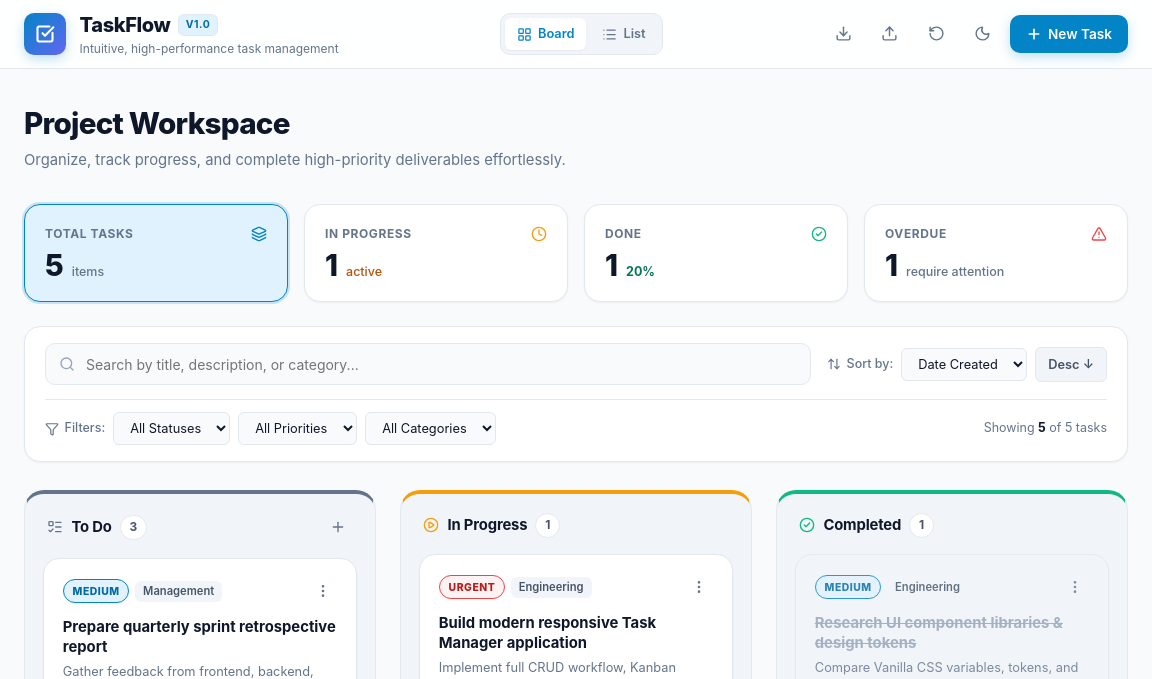
Test case: TaskFlow Application UI & Workflows › switches between Kanban Board and List view modes
Expected: the heading "To Do" is shown, [71, 516, 112, 538]
Click the button "List". click: [624, 34]
box: [590, 18, 658, 50]
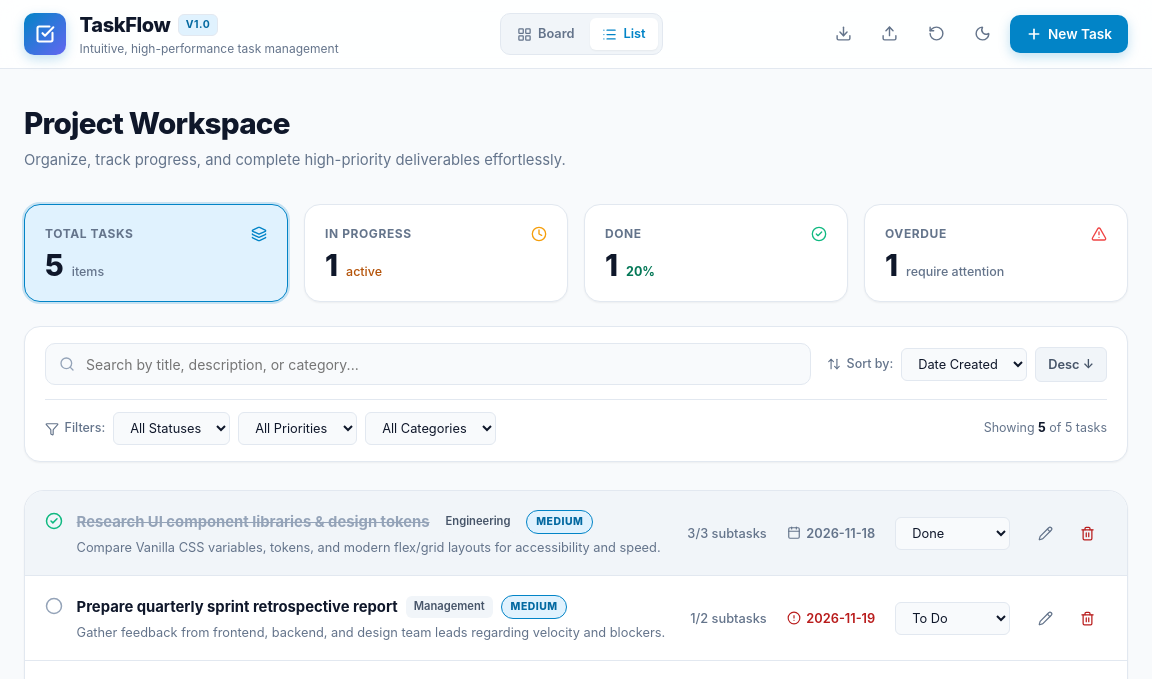
Click the button "Board". click: [546, 34]
box: [505, 18, 586, 50]
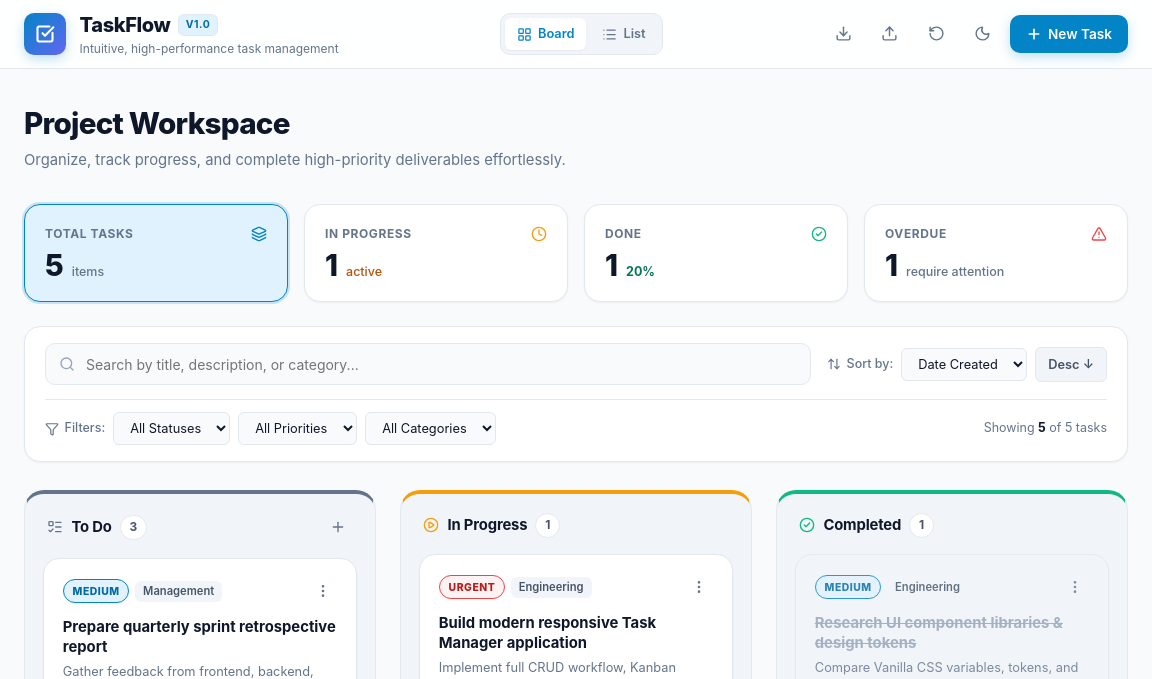
Expected: the heading "To Do" is shown, [71, 516, 112, 538]
